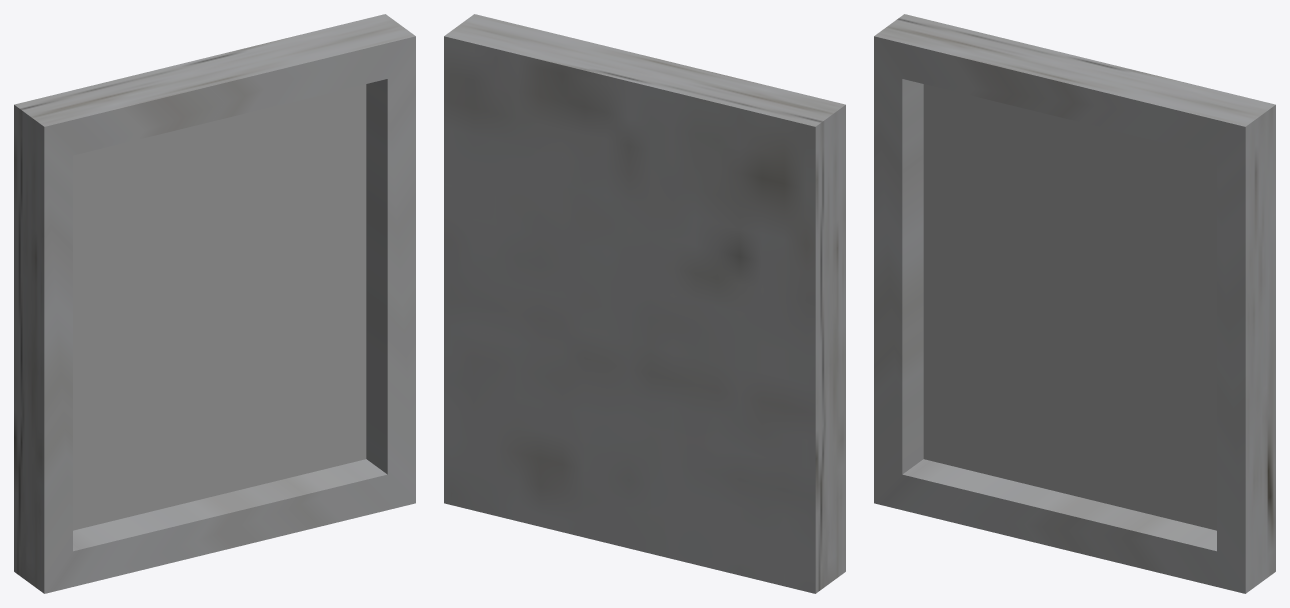
Rendered from obj_window_s.fbx.
The picture shows the model from 3 angles, left to right: view 1: azimuth 30°, elevation 25°; view 2: azimuth 150°, elevation 25°; view 3: azimuth 330°, elevation 25°; orthographic projection.
Parts seen in each view (by area): view 1: obj_window_s; view 2: obj_window_s; view 3: obj_window_s.
Part boxes in pixels (x1,y1,x2,y2): obj_window_s: (14,14,415,593); obj_window_s: (444,14,845,593); obj_window_s: (874,14,1275,593).
Size of the model in its own units: 0.8324 by 1 by 0.1181.
Materials: 2 (1 with a texture image).
